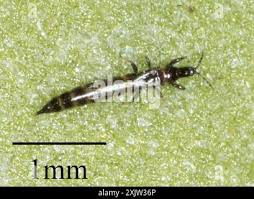Phlaeothripidae: (32, 50, 215, 119)
